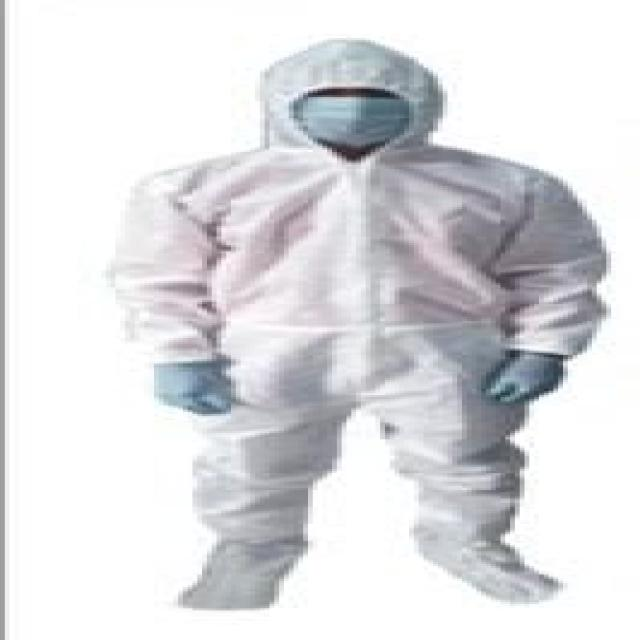Coverall: (96, 32, 611, 613)
Gloves: (150, 361, 246, 416), (476, 349, 568, 402)
Mask: (274, 93, 419, 144)
